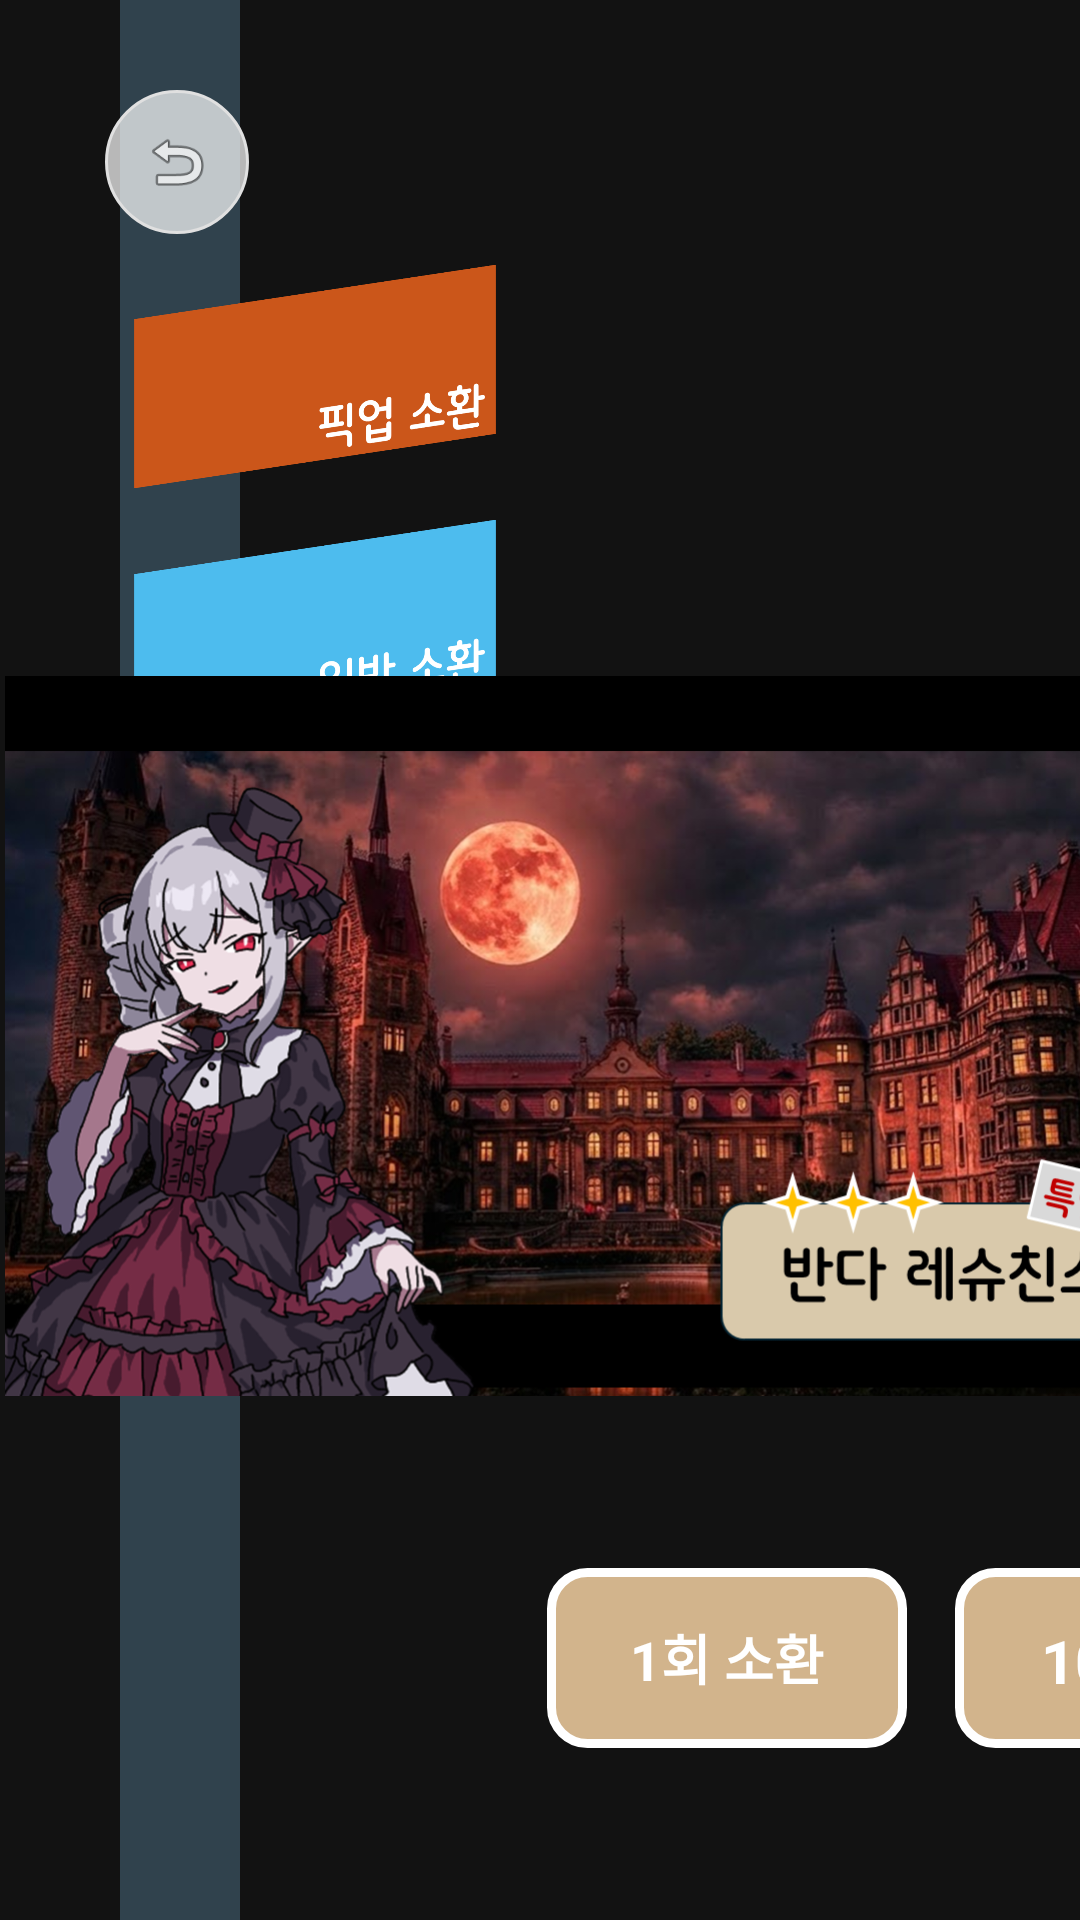

Where icons sit on this 1080×1920 app screen, as (x1, y1, x2, y2):
revert: (105, 90, 249, 234)
